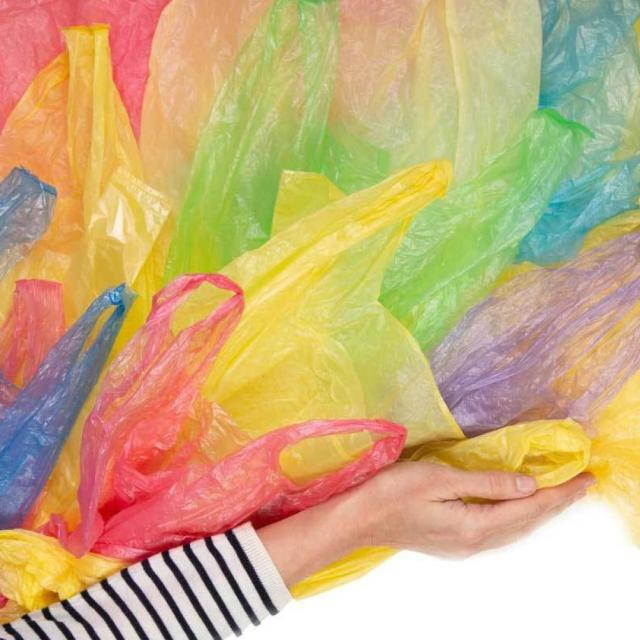Single-layer Plastic: (43, 275, 405, 559), (203, 160, 463, 446), (166, 0, 389, 276), (380, 109, 591, 352), (0, 25, 170, 324), (430, 232, 639, 435), (329, 0, 542, 181), (0, 284, 135, 529), (517, 0, 639, 265), (139, 0, 272, 212), (0, 0, 168, 136), (409, 419, 591, 488), (0, 529, 126, 611), (588, 371, 640, 542), (0, 279, 65, 388), (0, 168, 56, 279)
